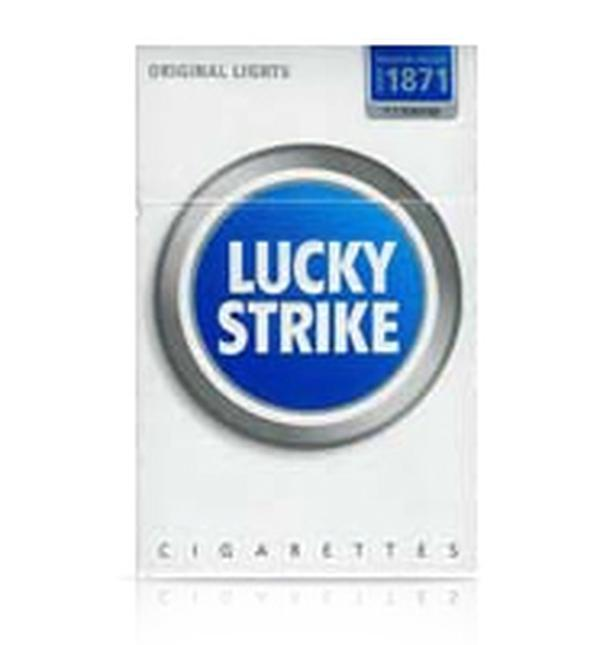lucky_strike_blue: (140, 48, 476, 580)
